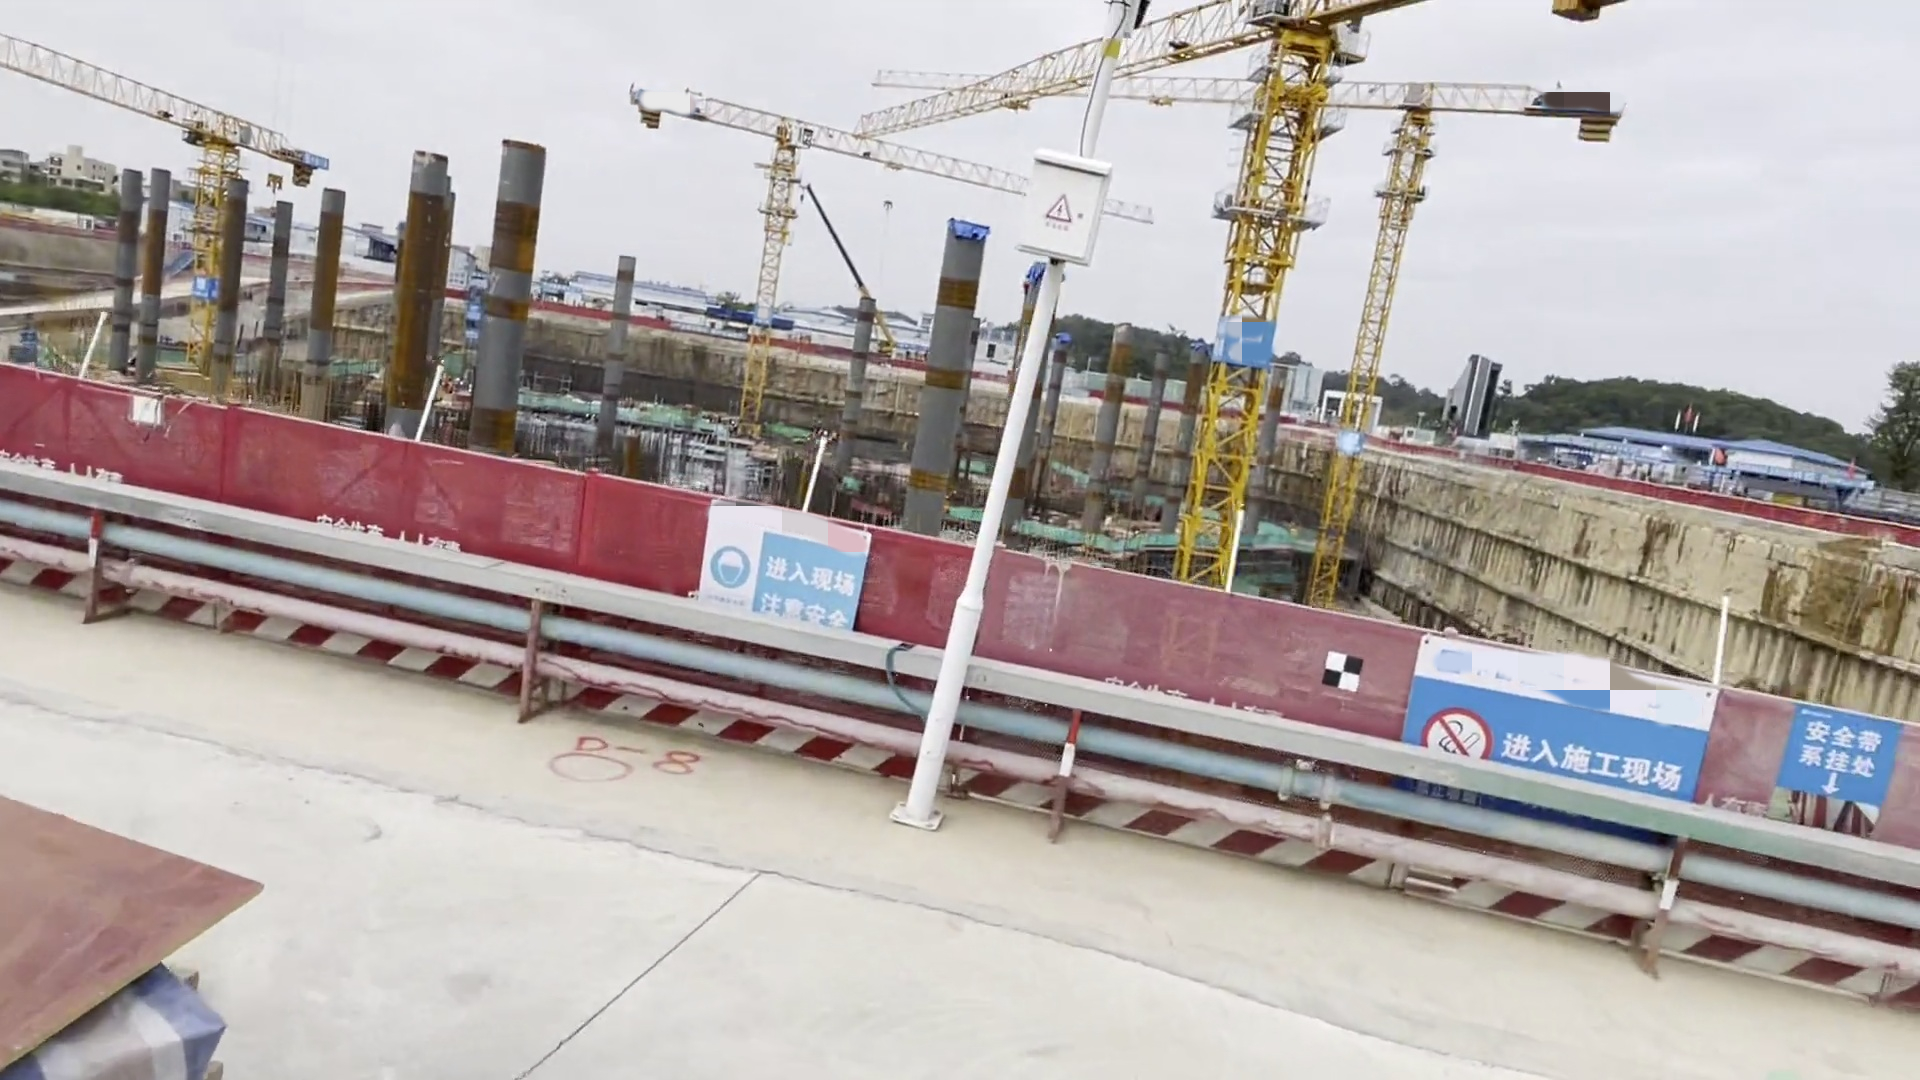ebox: (1018, 153, 1116, 266)
fence: (1, 363, 1920, 1023)
hook: (268, 173, 284, 196)
slogan: (1398, 633, 1720, 811), (694, 495, 882, 629)
